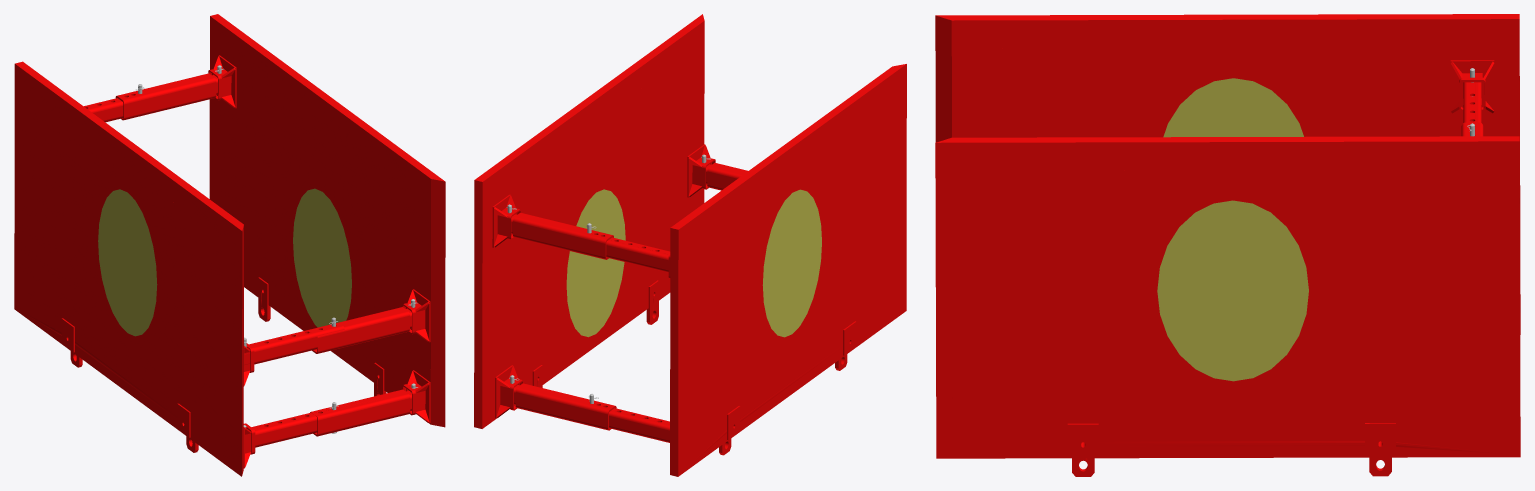
File: trenchBrace.fbx
The picture shows the model from 3 angles, left to right: view 1: azimuth 30°, elevation 25°; view 2: azimuth 150°, elevation 25°; view 3: azimuth 270°, elevation 25°; orthographic projection. The views are drawn at different scales.
Parts seen in each view (by area): view 1: TrenchBrace; view 2: TrenchBrace; view 3: TrenchBrace.
Boxes of the visible parts, x1,y1,x2,y2 form: TrenchBrace: [14, 14, 445, 476]; TrenchBrace: [474, 14, 906, 476]; TrenchBrace: [935, 14, 1520, 476].
Bounding box in the file's own units: 176 × 216 × 338.
